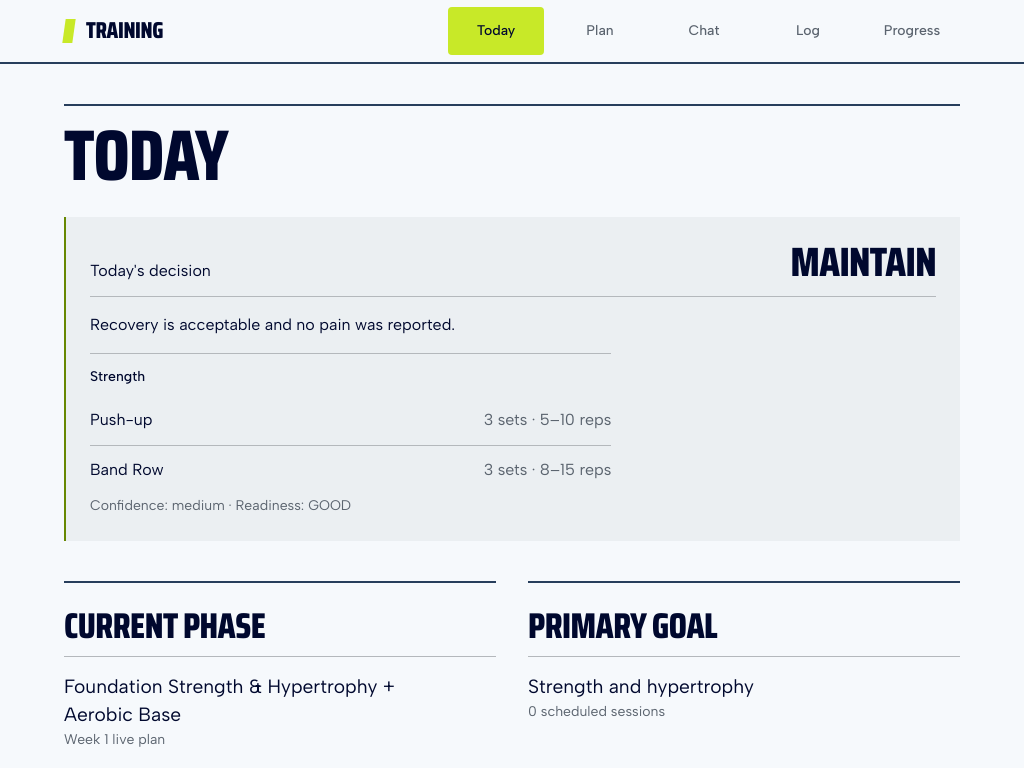
it: App shell › offers four primary destinations and switches screens
This screenshot has width=1024, height=768.
Expected: the button "Today" is shown, [448, 7, 544, 55]
Expected: the button "Log" is shown, [760, 7, 856, 55]
Click the button "Chat" at (704, 31), box [656, 7, 752, 55]
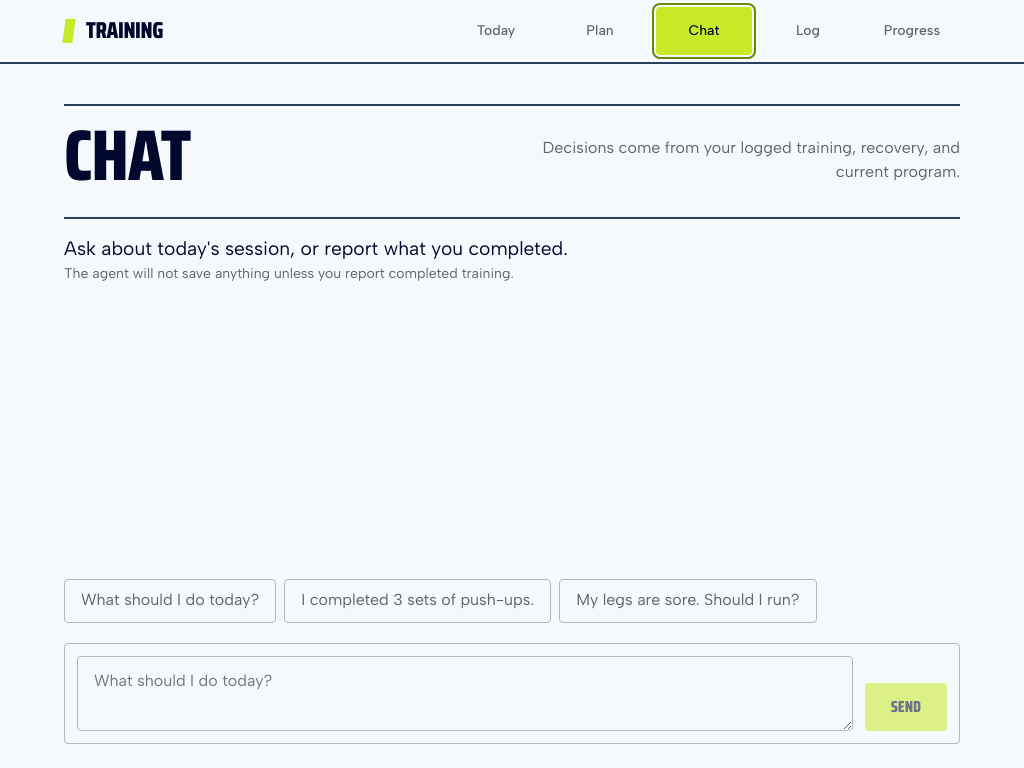
Expected: the heading "Chat" is shown, [64, 118, 190, 193]
Expected: the text box named "Message" is shown, [77, 656, 853, 732]
